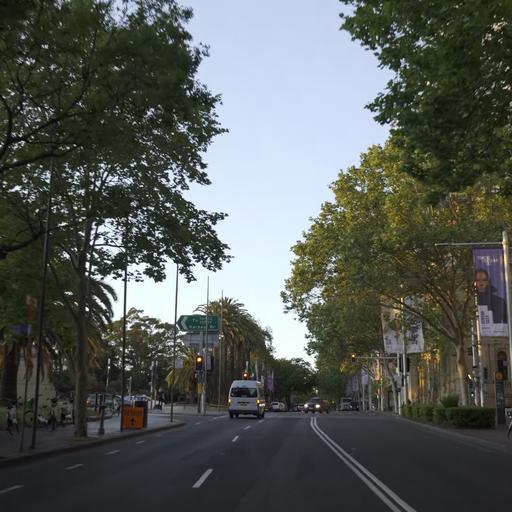Street light: (433, 230, 511, 428), (350, 351, 402, 414), (195, 354, 203, 372), (350, 352, 355, 362)
